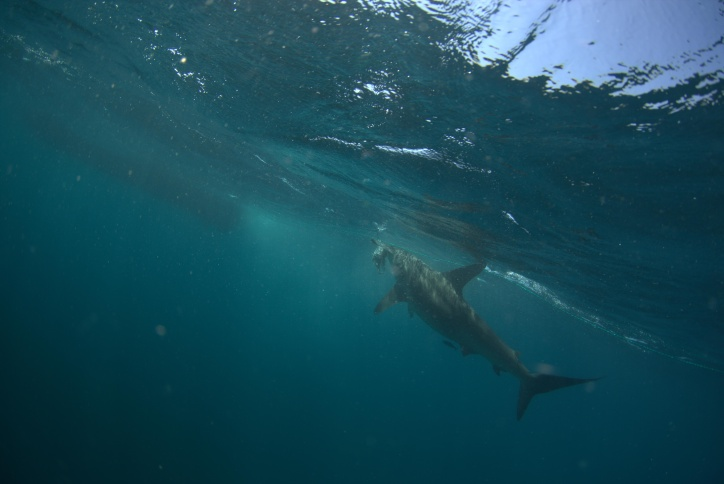Hammer: (347, 213, 610, 435)
